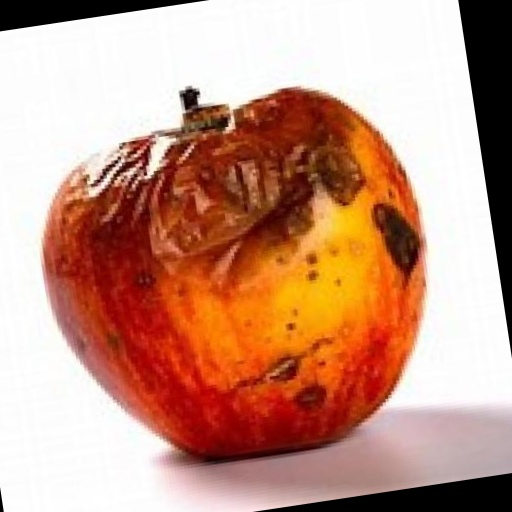fruit: (43, 89, 425, 457)
